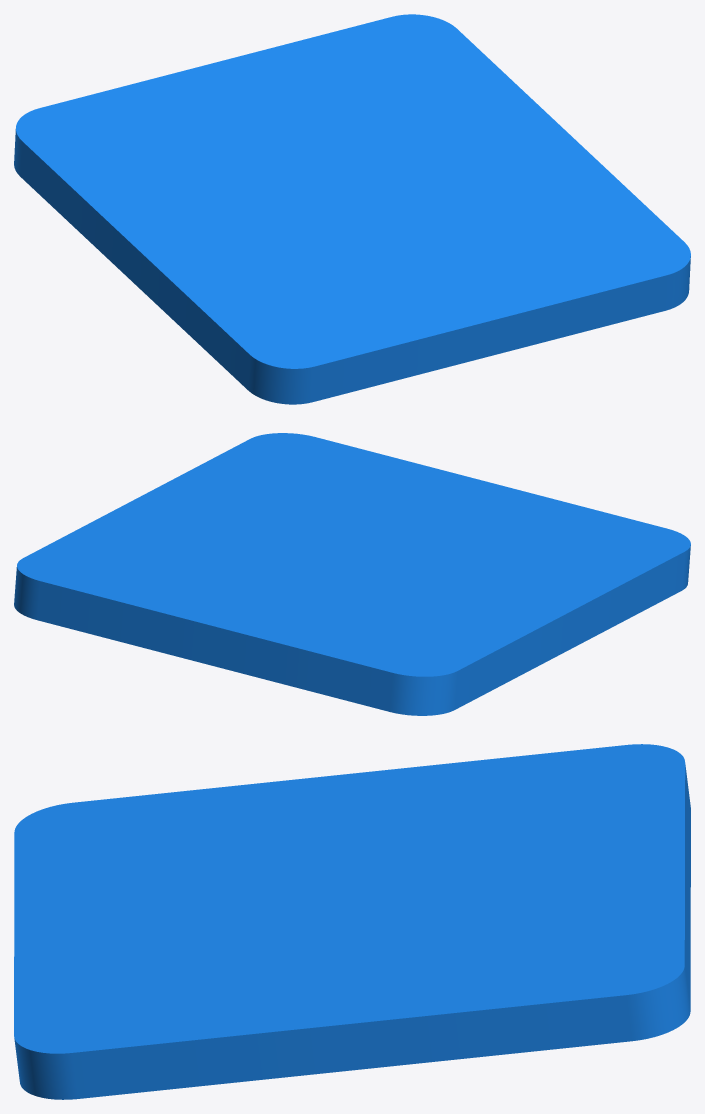
The model's file is original-13.obj.
3 renders of one model, top to bottom at view 1: azimuth 30°, elevation 25°; view 2: azimuth 150°, elevation 25°; view 3: azimuth 270°, elevation 25°, orthographic. The views are drawn at different scales.
Visible parts, largest first — view 1: mesh19/mesh19-geometry#mesh19-geometry; view 2: mesh19/mesh19-geometry#mesh19-geometry; view 3: mesh19/mesh19-geometry#mesh19-geometry.
Boxes of the visible parts, bbox=[...] form: mesh19/mesh19-geometry#mesh19-geometry: bbox=[14, 14, 690, 404]; mesh19/mesh19-geometry#mesh19-geometry: bbox=[14, 433, 690, 715]; mesh19/mesh19-geometry#mesh19-geometry: bbox=[14, 744, 690, 1099].
Bounding box in the file's own units: 0.0956 × 0.0211 × 0.1056.
